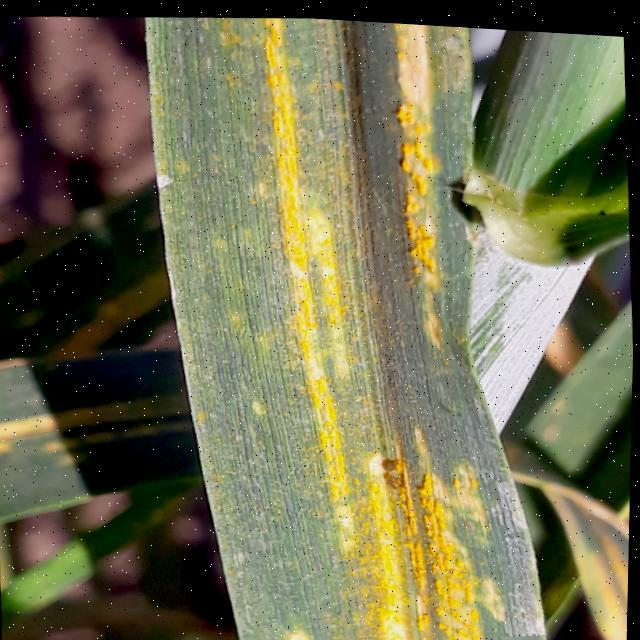yellow_rust: (134, 7, 562, 640), (0, 335, 206, 551), (521, 457, 632, 640)
